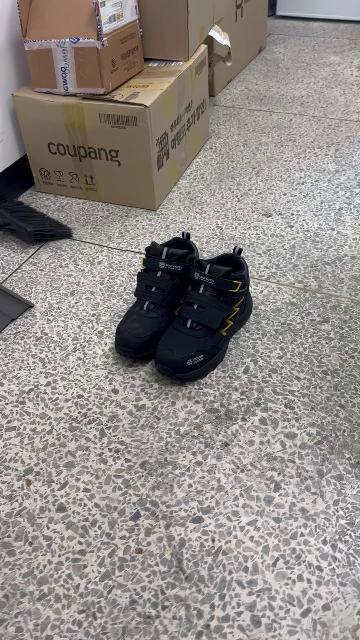shoe_worn: (153, 248, 259, 386), (110, 232, 204, 366)
